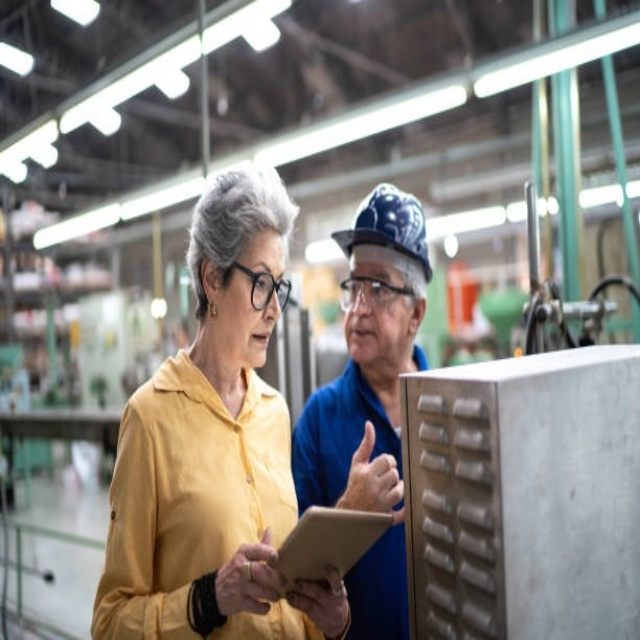Gafas: (225, 261, 292, 313), (338, 275, 416, 313)
Sin_guantes: (215, 523, 291, 620), (337, 415, 405, 518), (284, 563, 351, 639)
Sin_mascara: (344, 320, 379, 356), (242, 325, 275, 362)
